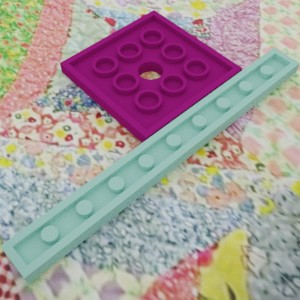lego: (0, 47, 299, 284), (59, 9, 242, 146)
